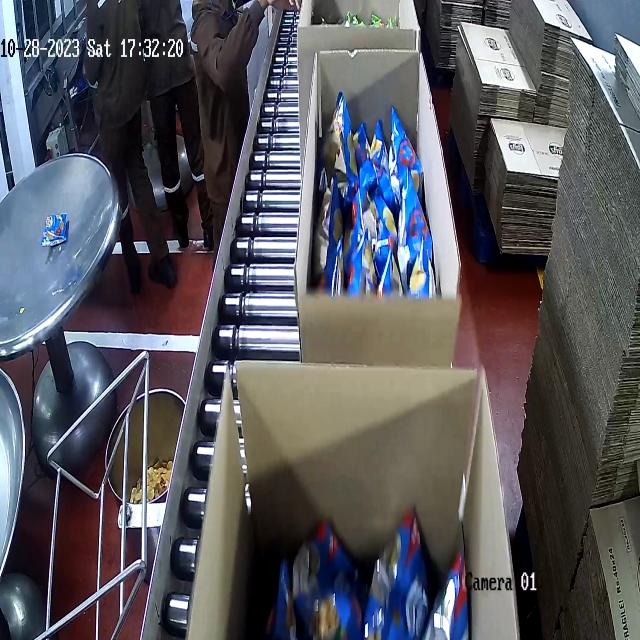PAPRIKA: (311, 105, 428, 287)
